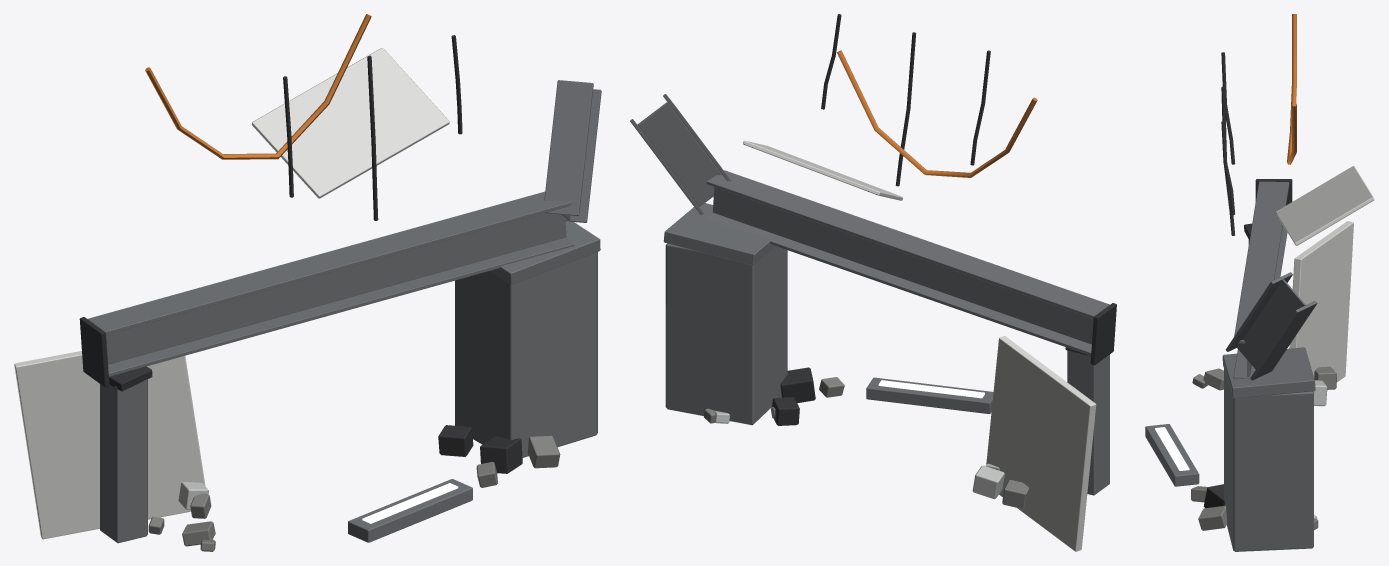
Rendered from fallen_beam.glb.
3 views of the same model, side by side, from view 1: azimuth 30°, elevation 25°; view 2: azimuth 150°, elevation 25°; view 3: azimuth 270°, elevation 25° (orthographic). The views are drawn at different scales.
Visible parts, largest first — view 1: fallen_beam; view 2: fallen_beam; view 3: fallen_beam.
Part boxes in pixels (box(x1,y1,x2,y2)): fallen_beam: box(14, 14, 601, 551); fallen_beam: box(630, 14, 1116, 551); fallen_beam: box(1145, 14, 1374, 551).
Size of the model in its own units: 5.28 by 4.28 by 2.25.
